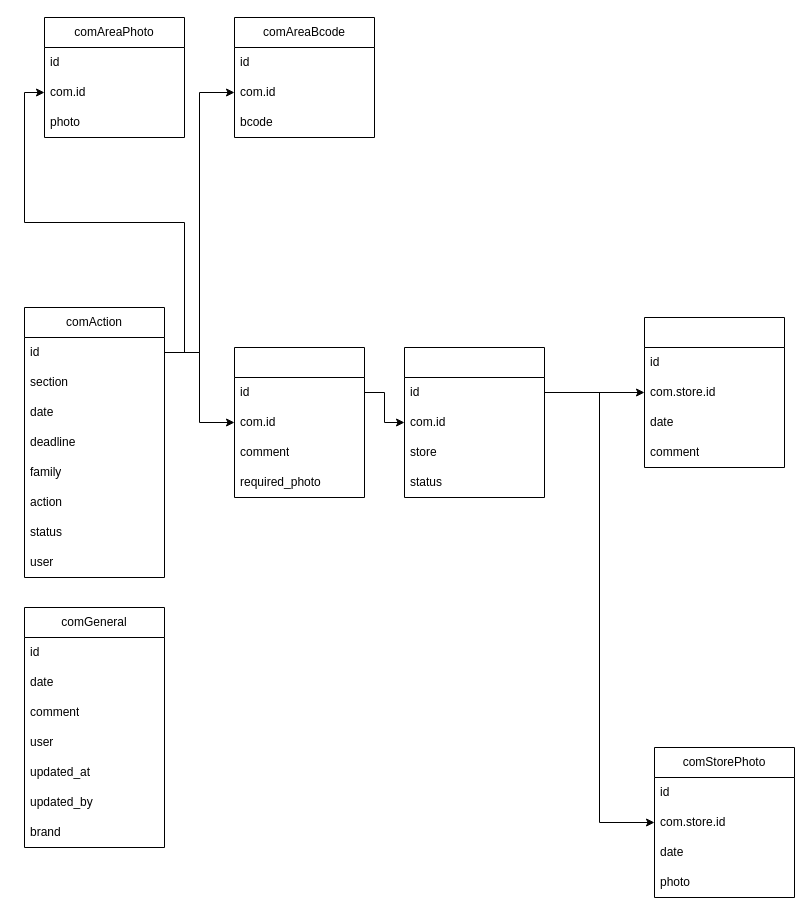
Some shapes in this 812 by 915 pixel diagram are drawn without their labels. The shapes that lost their labels are listed below. From the top down, each one's box as (x1, y1, x2, y2) in pixels, then its label:
(644, 316, 784, 468): comStoreComment
(234, 346, 364, 498): comArea
(404, 346, 544, 498): comStore
